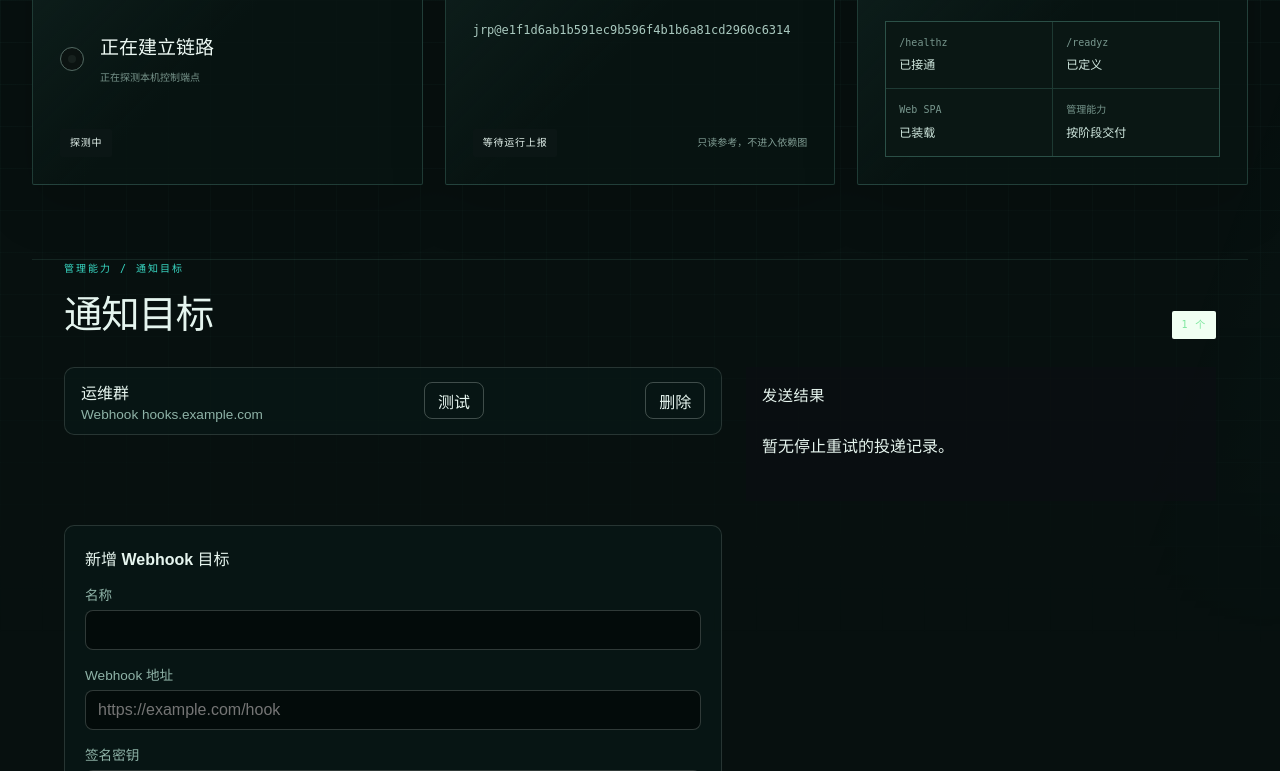
Test: 通知目标管理 › 测试通知请求携带 CSRF token 并展示结果
(page scrolled)
Expected: the heading "通知目标" is shown, [64,283,213,339]
Click the button "测试": (454, 401) [424,382,484,419]
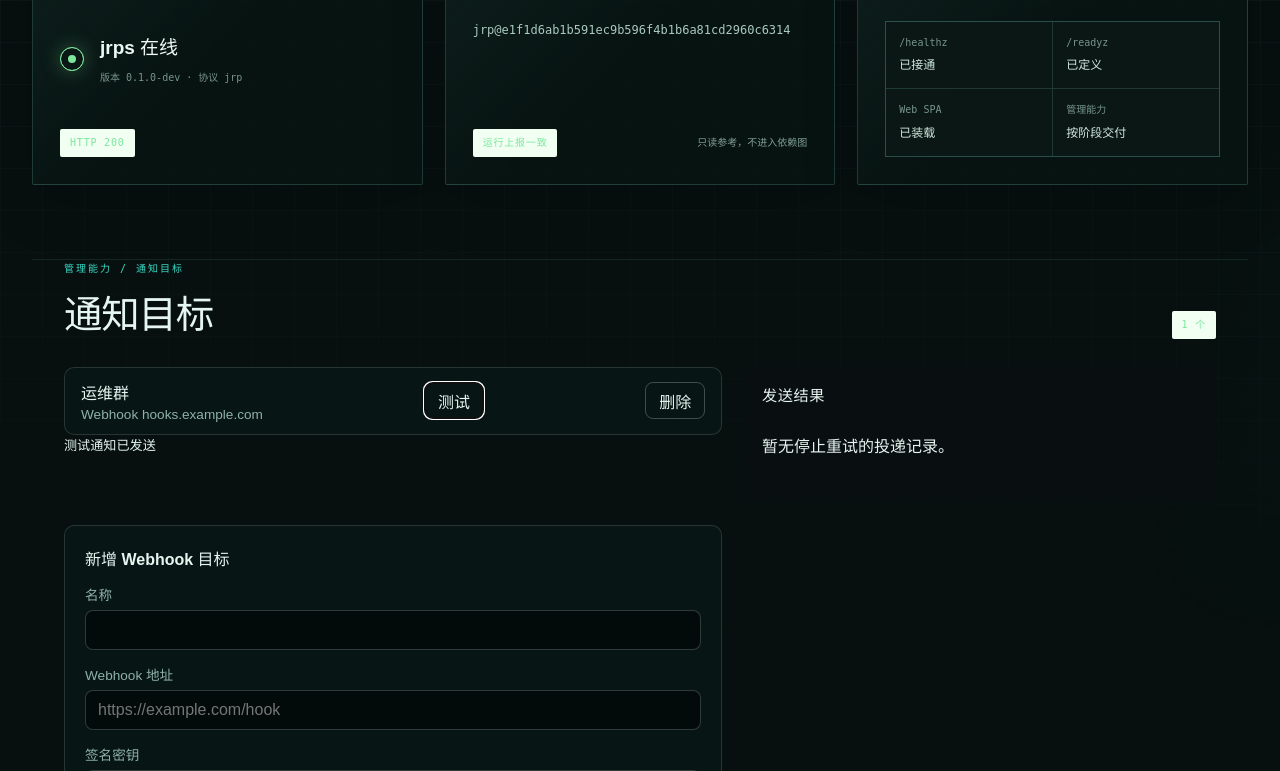
Result: the text "测试通知已发送" is shown at [64,438,156,453]
